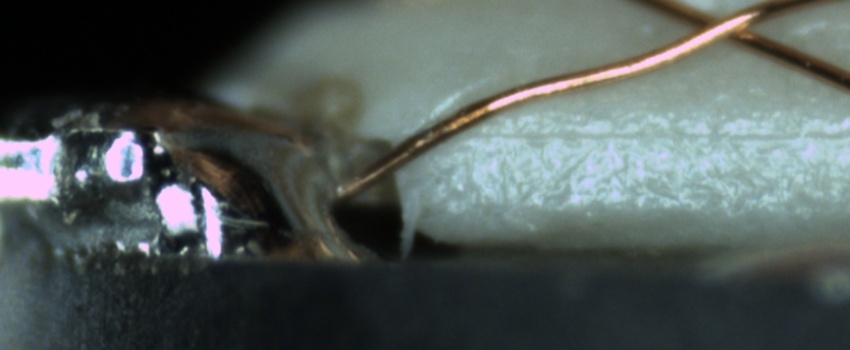CL: (672, 2, 772, 53)
DL: (452, 103, 850, 165)
